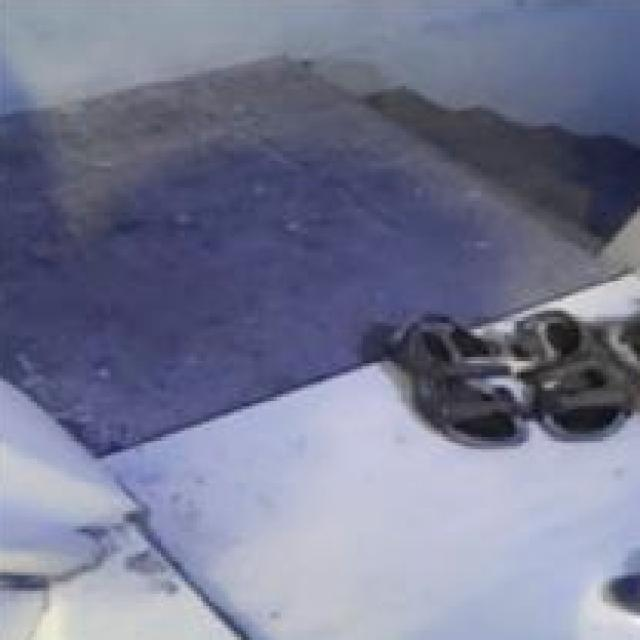downstair: (315, 10, 640, 238)
